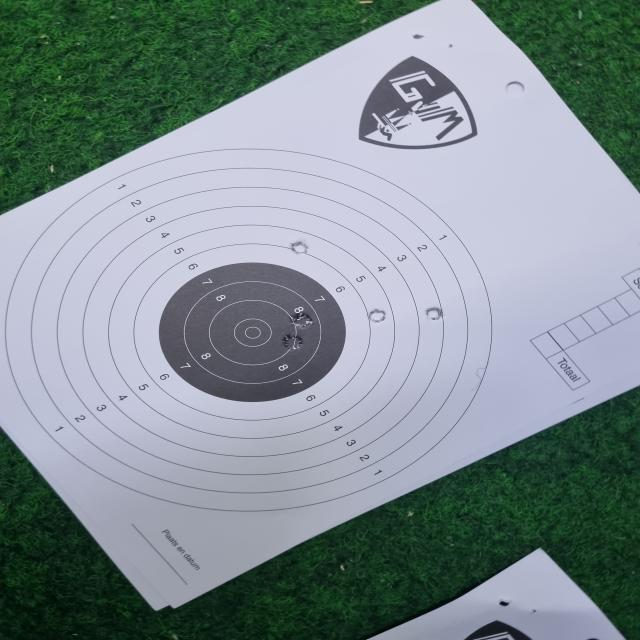10: (290, 312, 314, 328), (282, 334, 303, 350)
4: (426, 306, 444, 321)
6: (368, 309, 387, 323)
7: (291, 241, 309, 255)
Black Contour: (157, 261, 346, 404)
Target: (6, 148, 495, 514)
